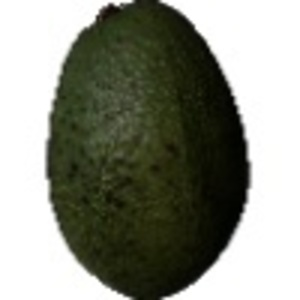abacate: (43, 1, 250, 299)
